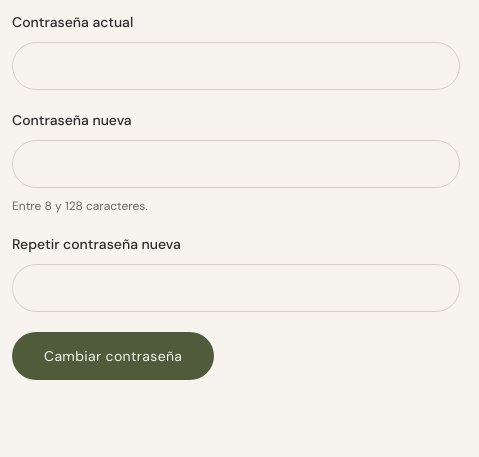
Test case: formulario de cambio de contrasena › con datos invalidos no envia nada, senala el campo y conserva lo escrito
Step 1. Type "contrasena-actual-123" into the password field labelled "Contraseña actual" → (236, 66), box [12,42,460,90]
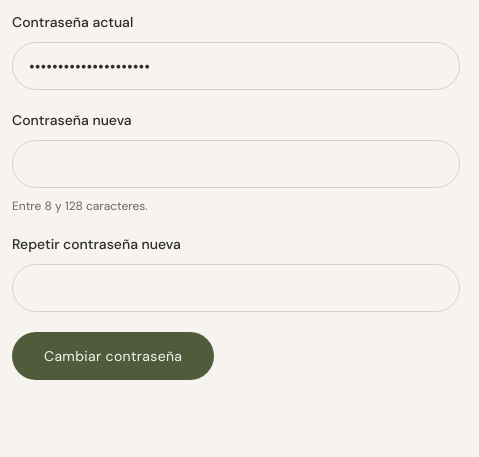
Step 2. Type "corta" into the password field labelled "Contraseña nueva" → (236, 164), box [12,140,460,188]
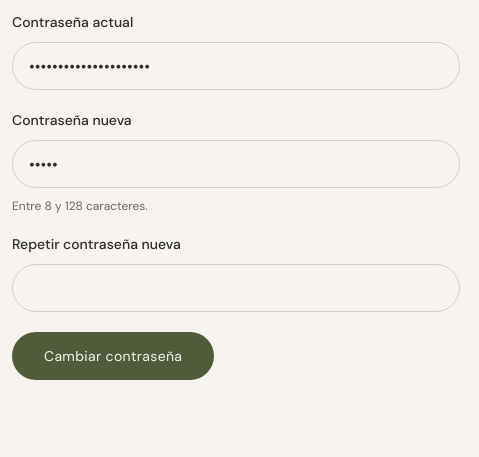
Step 3. Type "otra" into the password field labelled "Repetir contraseña nueva" → (236, 288), box [12,264,460,312]
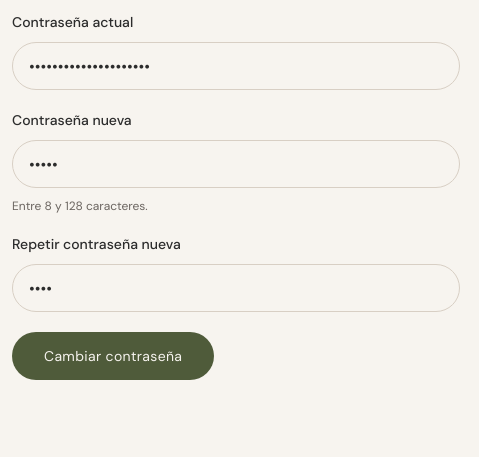
Step 4. Click the button "Cambiar contraseña" → click(113, 356), box [12,332,214,380]
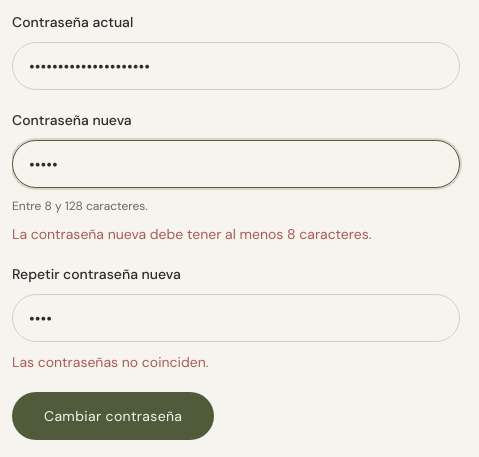
Check: the text "La contraseña nueva debe tener al menos 8 caracteres." is shown, box [12,225,372,243]
Check: the text "Las contraseñas no coinciden." is shown, box [12,353,208,371]
